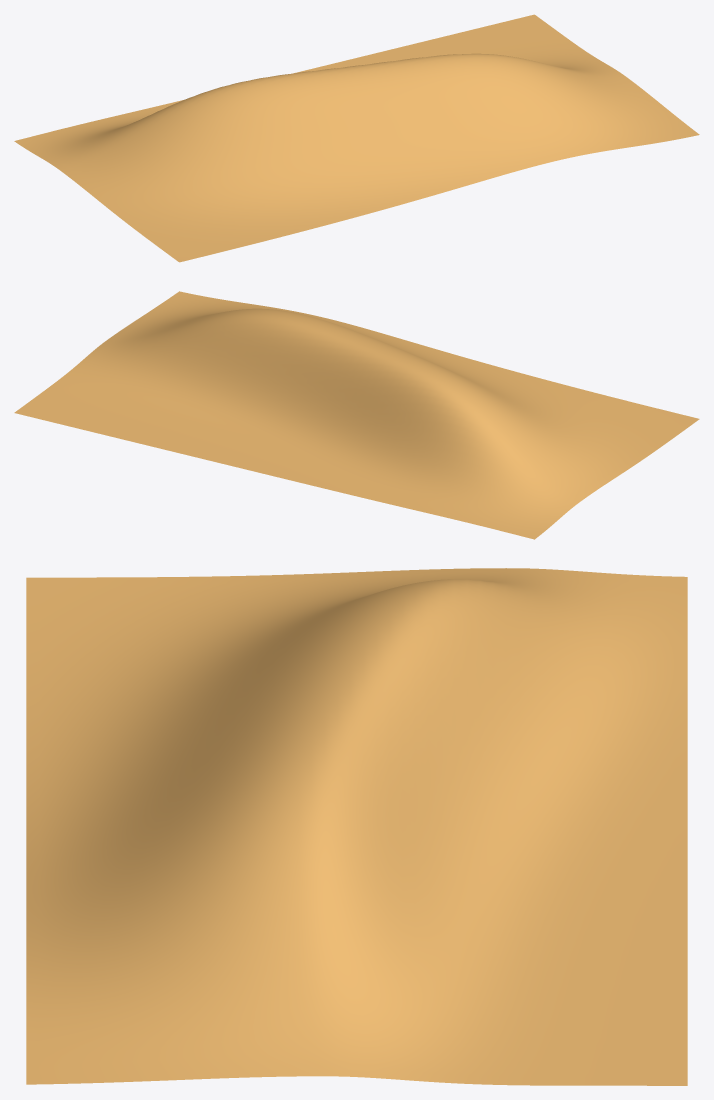
File: SandDune.obj
3 views of the same model, one above another, from view 1: azimuth 30°, elevation 25°; view 2: azimuth 150°, elevation 25°; view 3: azimuth 270°, elevation 25° (orthographic). The views are drawn at different scales.
Visible parts, largest first — view 1: Dune; view 2: Dune; view 3: Dune.
Boxes of the visible parts, x1,y1,x2,y2 form: Dune: (14, 14, 699, 262); Dune: (14, 291, 699, 539); Dune: (26, 568, 687, 1085).
Bounding box in the file's own units: 200 × 26 × 110.
